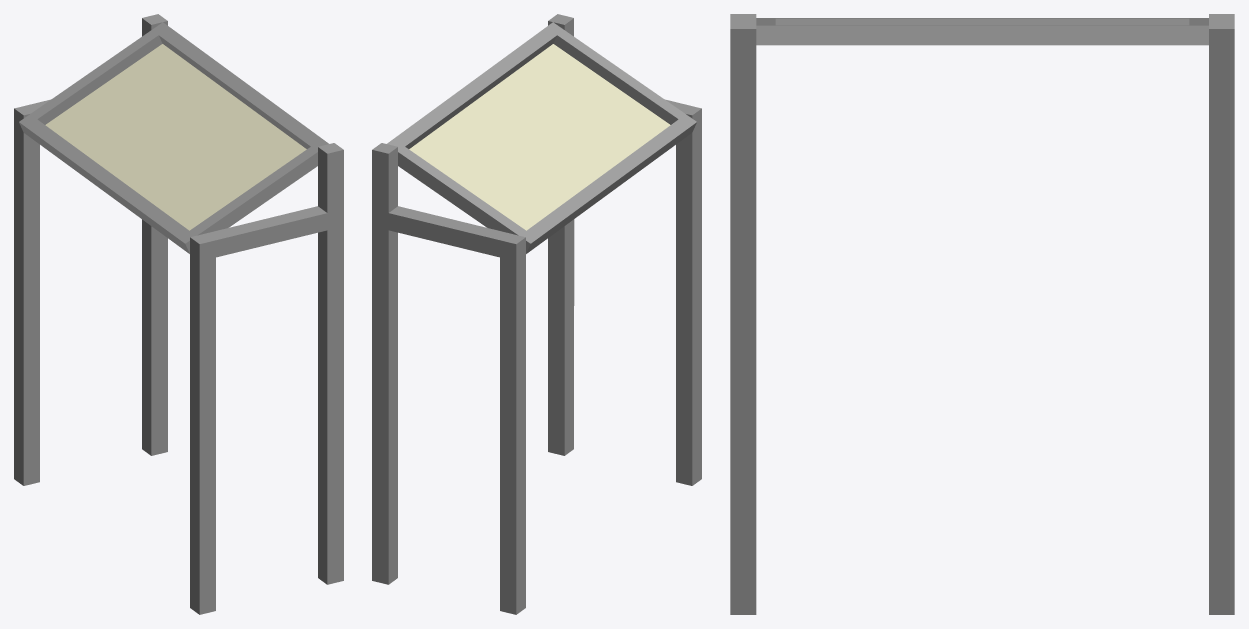
The model's file is Station_2Boxes.dae.
3 views of the same model, side by side, from view 1: azimuth 30°, elevation 25°; view 2: azimuth 150°, elevation 25°; view 3: azimuth 270°, elevation 25° (orthographic). The views are drawn at different scales.
Visible parts, largest first — view 1: RWAL_001; view 2: RWAL_001; view 3: RWAL_001.
Boxes of the visible parts, left/top/right/bottom form: RWAL_001: left=14, top=14, right=343, bottom=614; RWAL_001: left=372, top=14, right=701, bottom=614; RWAL_001: left=730, top=14, right=1234, bottom=614.
Bounding box in the file's own units: 0.3618 × 0.7803 × 1.
